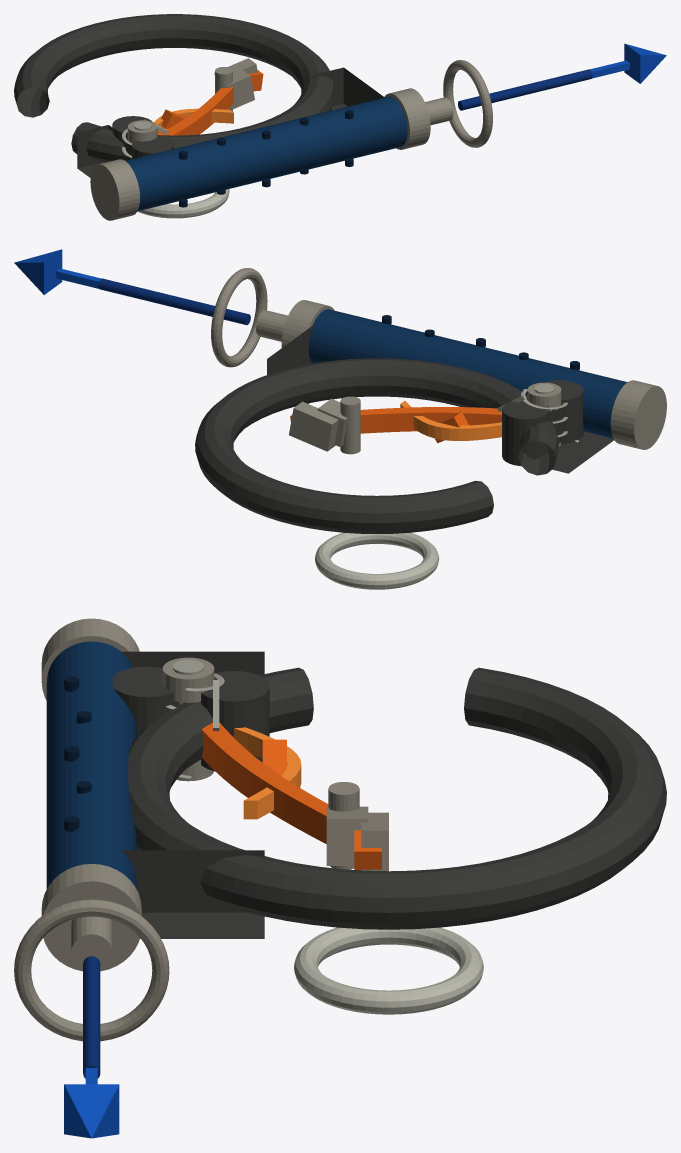
The model's file is CanineTowClip_DetailedLatch.obj.
The picture shows the model from 3 angles, top to bottom: view 1: azimuth 30°, elevation 25°; view 2: azimuth 150°, elevation 25°; view 3: azimuth 270°, elevation 25°; orthographic projection. The views are drawn at different scales.
Parts seen in each view (by area): view 1: Main_U_Shaped_Hook_Body_Rounded_Metal, Blue_Padded_Bite_Grip, Left_Metal_Grip_End_Cap, Rear_Swivel_Leash_Ring, Right_Metal_Grip_End_Cap, Right_Upper_Hook_Cheek, Short_Blue_Leash_Segment_Demo, Orange_Pivoting_Self_Locking_Gate_Curved_Closed, Optional_Target_Ring_Demo_Attachment_Point, Pull_Direction_Arrow_Head_Delete_If_Not_Needed, Left_Upper_Hook_Cheek, Gate_Stop_Block_Rounded_Approx (+7 smaller); view 2: Main_U_Shaped_Hook_Body_Rounded_Metal, Blue_Padded_Bite_Grip, Optional_Target_Ring_Demo_Attachment_Point, Left_Metal_Grip_End_Cap, Orange_Pivoting_Self_Locking_Gate_Curved_Closed, Rear_Swivel_Leash_Ring, Hinge_Housing_Lower_Boss, Short_Blue_Leash_Segment_Demo, Left_Upper_Hook_Cheek, Inner_Catch_Shelf_For_Gate_Tip, Optional_Ghost_Open_Gate_Position_Reference, Hinge_Housing_Upper_Boss (+8 smaller); view 3: Main_U_Shaped_Hook_Body_Rounded_Metal, Blue_Padded_Bite_Grip, Optional_Target_Ring_Demo_Attachment_Point, Right_Upper_Hook_Cheek, Rear_Swivel_Leash_Ring, Orange_Pivoting_Self_Locking_Gate_Curved_Closed, Right_Metal_Grip_End_Cap, Hinge_Housing_Lower_Boss, Pull_Direction_Arrow_Head_Delete_If_Not_Needed, Hinge_Housing_Upper_Boss, Left_Metal_Grip_End_Cap, Left_Upper_Hook_Cheek (+9 smaller).
Part boxes in pixels (<box>): Main_U_Shaped_Hook_Body_Rounded_Metal: <box>14,14,335,162</box>; Blue_Padded_Bite_Grip: <box>126,96,407,211</box>; Left_Metal_Grip_End_Cap: <box>90,159,139,220</box>; Rear_Swivel_Leash_Ring: <box>443,60,492,147</box>; Right_Metal_Grip_End_Cap: <box>384,88,430,149</box>; Right_Upper_Hook_Cheek: <box>312,67,384,110</box>; Short_Blue_Leash_Segment_Demo: <box>458,69,592,110</box>; Orange_Pivoting_Self_Locking_Gate_Curved_Closed: <box>157,86,233,135</box>; Optional_Target_Ring_Demo_Attachment_Point: <box>137,189,229,218</box>; Pull_Direction_Arrow_Head_Delete_If_Not_Needed: <box>624,43,666,83</box>; Left_Upper_Hook_Cheek: <box>77,125,131,177</box>; Gate_Stop_Block_Rounded_Approx: <box>226,67,254,109</box>; Main_U_Shaped_Hook_Body_Rounded_Metal: <box>195,358,558,533</box>; Blue_Padded_Bite_Grip: <box>308,309,627,438</box>; Optional_Target_Ring_Demo_Attachment_Point: <box>315,532,439,589</box>; Left_Metal_Grip_End_Cap: <box>610,380,666,449</box>; Orange_Pivoting_Self_Locking_Gate_Curved_Closed: <box>360,407,501,433</box>; Rear_Swivel_Leash_Ring: <box>211,268,267,367</box>; Hinge_Housing_Lower_Boss: <box>502,399,549,466</box>; Short_Blue_Leash_Segment_Demo: <box>98,278,250,325</box>; Left_Upper_Hook_Cheek: <box>533,403,613,473</box>; Inner_Catch_Shelf_For_Gate_Tip: <box>289,401,338,451</box>; Optional_Ghost_Open_Gate_Position_Reference: <box>400,401,501,440</box>; Hinge_Housing_Upper_Boss: <box>545,380,583,443</box>; Main_U_Shaped_Hook_Body_Rounded_Metal: <box>128,667,666,929</box>; Blue_Padded_Bite_Grip: <box>46,641,136,888</box>; Optional_Target_Ring_Demo_Attachment_Point: <box>294,927,483,1014</box>; Right_Upper_Hook_Cheek: <box>121,850,264,938</box>; Rear_Swivel_Leash_Ring: <box>14,899,169,1041</box>; Orange_Pivoting_Self_Locking_Gate_Curved_Closed: <box>201,722,328,843</box>; Right_Metal_Grip_End_Cap: <box>41,864,141,971</box>; Hinge_Housing_Lower_Boss: <box>200,671,269,771</box>; Pull_Direction_Arrow_Head_Delete_If_Not_Needed: <box>64,1084,119,1138</box>; Hinge_Housing_Upper_Boss: <box>112,666,179,736</box>; Left_Metal_Grip_End_Cap: <box>41,618,139,700</box>; Left_Upper_Hook_Cheek: <box>121,651,264,675</box>.
Bounding box in the file's own units: 3.25 × 0.81 × 1.89.
